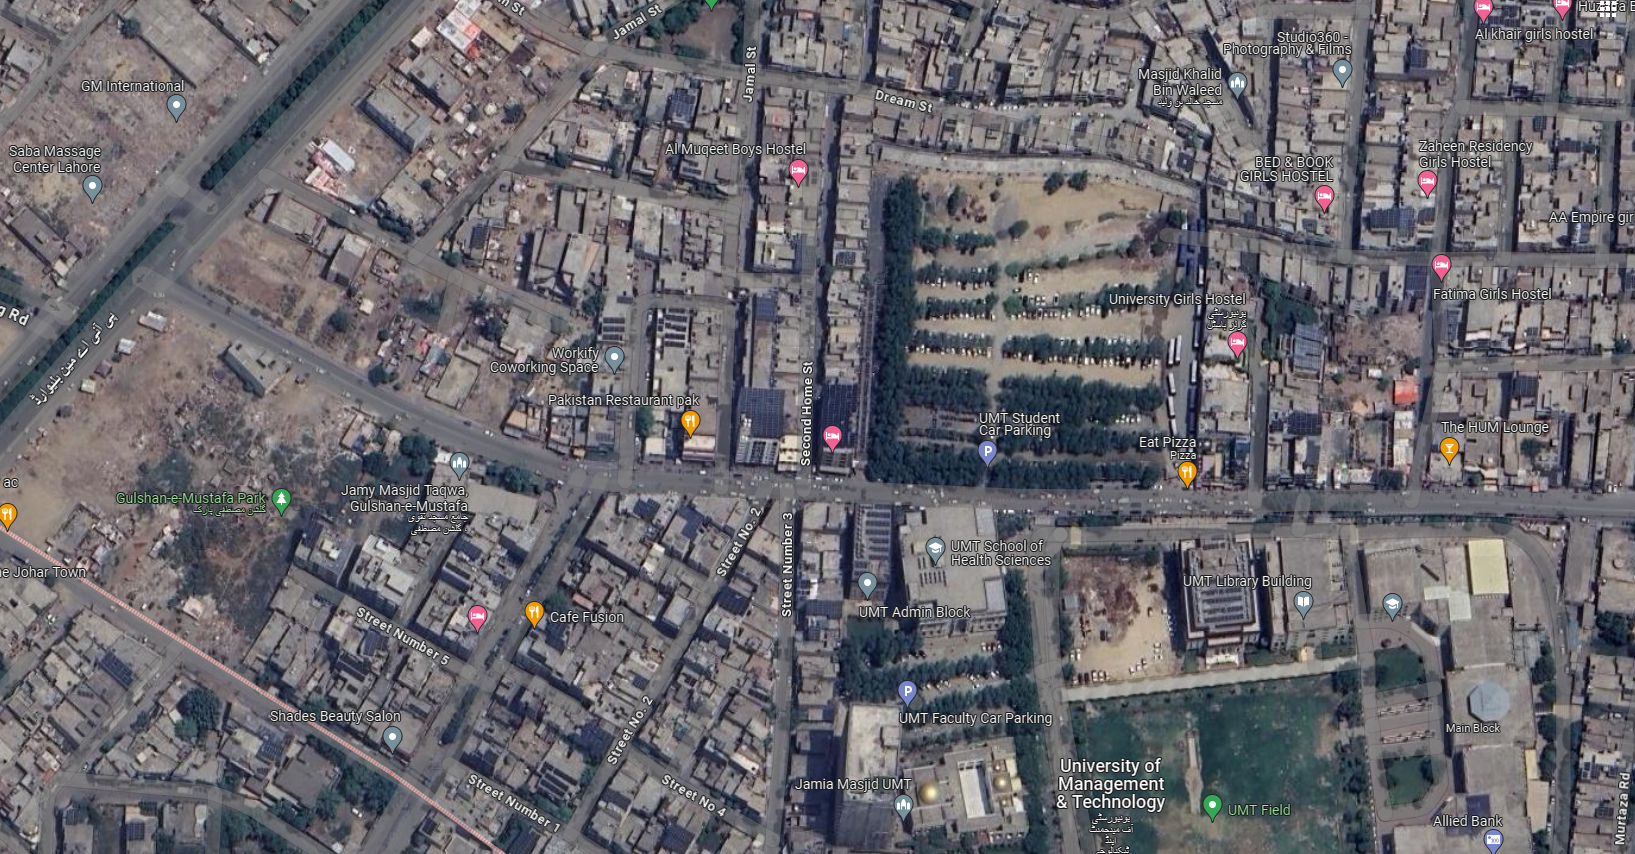solar-panel: (860, 508, 895, 576), (1198, 573, 1247, 621), (1362, 201, 1433, 233), (737, 383, 781, 433), (825, 388, 854, 450), (1462, 792, 1498, 835), (1297, 325, 1322, 370), (663, 306, 688, 350), (104, 649, 133, 683), (353, 629, 384, 659), (1401, 266, 1428, 301), (1282, 410, 1320, 433), (541, 762, 572, 790), (583, 720, 611, 750), (504, 827, 535, 854), (678, 502, 701, 535), (670, 823, 697, 851), (800, 600, 846, 616), (670, 93, 697, 120), (1511, 373, 1540, 396), (1586, 759, 1617, 780), (638, 493, 661, 520), (604, 313, 626, 342), (261, 736, 284, 761), (725, 590, 748, 615), (701, 630, 734, 648), (550, 611, 571, 637), (754, 296, 774, 321), (1557, 139, 1591, 154), (443, 563, 471, 579), (127, 820, 144, 845), (471, 221, 487, 246), (746, 688, 772, 703), (64, 809, 84, 825), (797, 236, 806, 273), (420, 816, 438, 833), (453, 541, 477, 553), (996, 14, 1024, 25), (635, 673, 653, 690), (836, 251, 856, 265), (1411, 46, 1427, 63), (1600, 802, 1614, 816), (809, 629, 822, 643), (688, 673, 696, 686)
